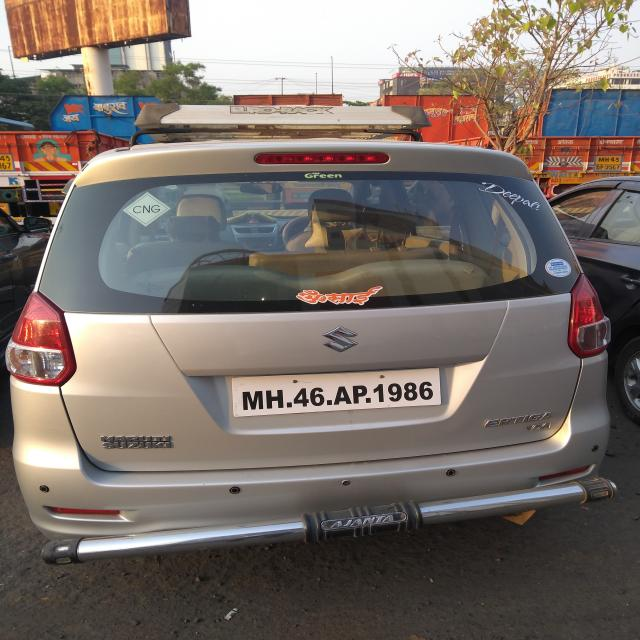Number-Plate: (233, 373, 435, 417)
